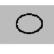no answer: (14, 11, 44, 37)
